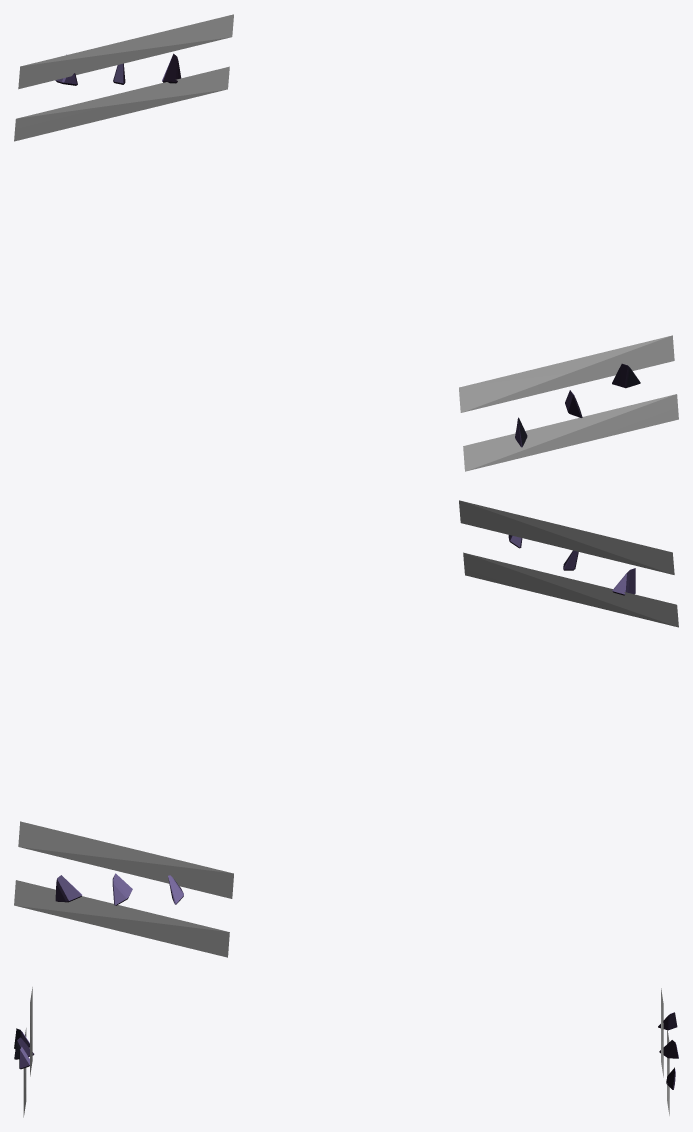
The model's file is vein_rock_b_mined_obsidian.glb.
3 views of the same model, one above another, from view 1: azimuth 30°, elevation 25°; view 2: azimuth 150°, elevation 25°; view 3: azimuth 270°, elevation 25° (orthographic). The views are drawn at different scales.
Size of the model in its own units: 0.22 by 0.0782 by 0.8267.
